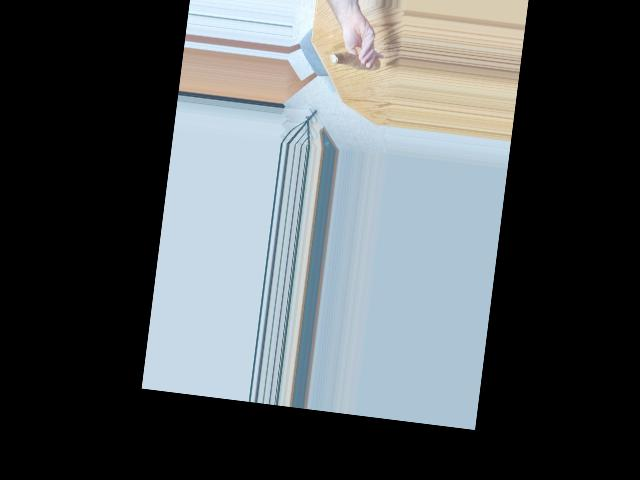sweet_potato: (334, 52, 377, 76)
